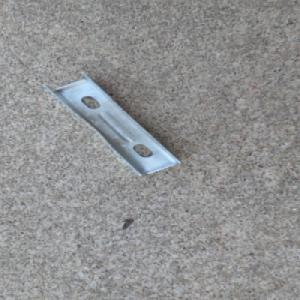ClampPart: (41, 70, 182, 177)
